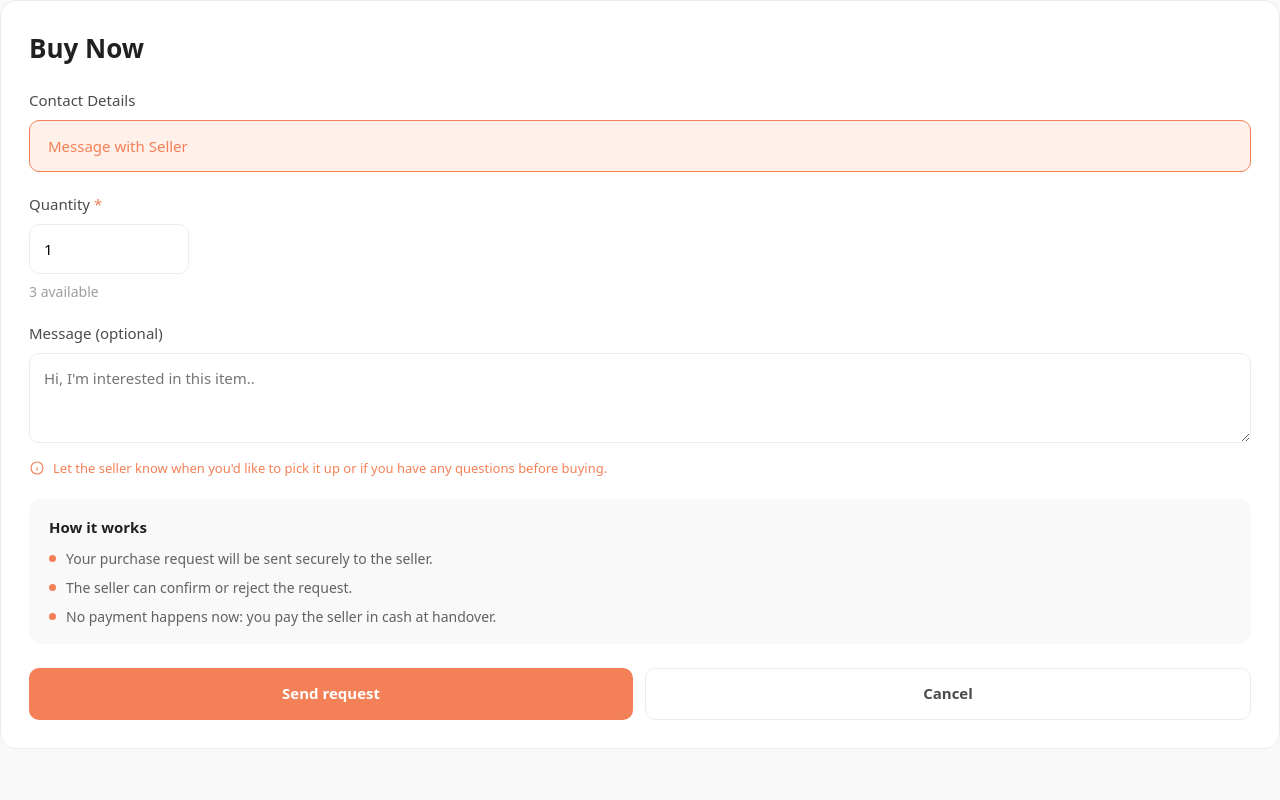
it: BuyNowForm › asks for a quantity within what the ad offers
The width and height of the screenshot is (1280, 800).
Step 1. Replace the text in the field labelled "Quantity *" with "4" → (109, 249), box top-left (29, 224), bottom-right (189, 274)
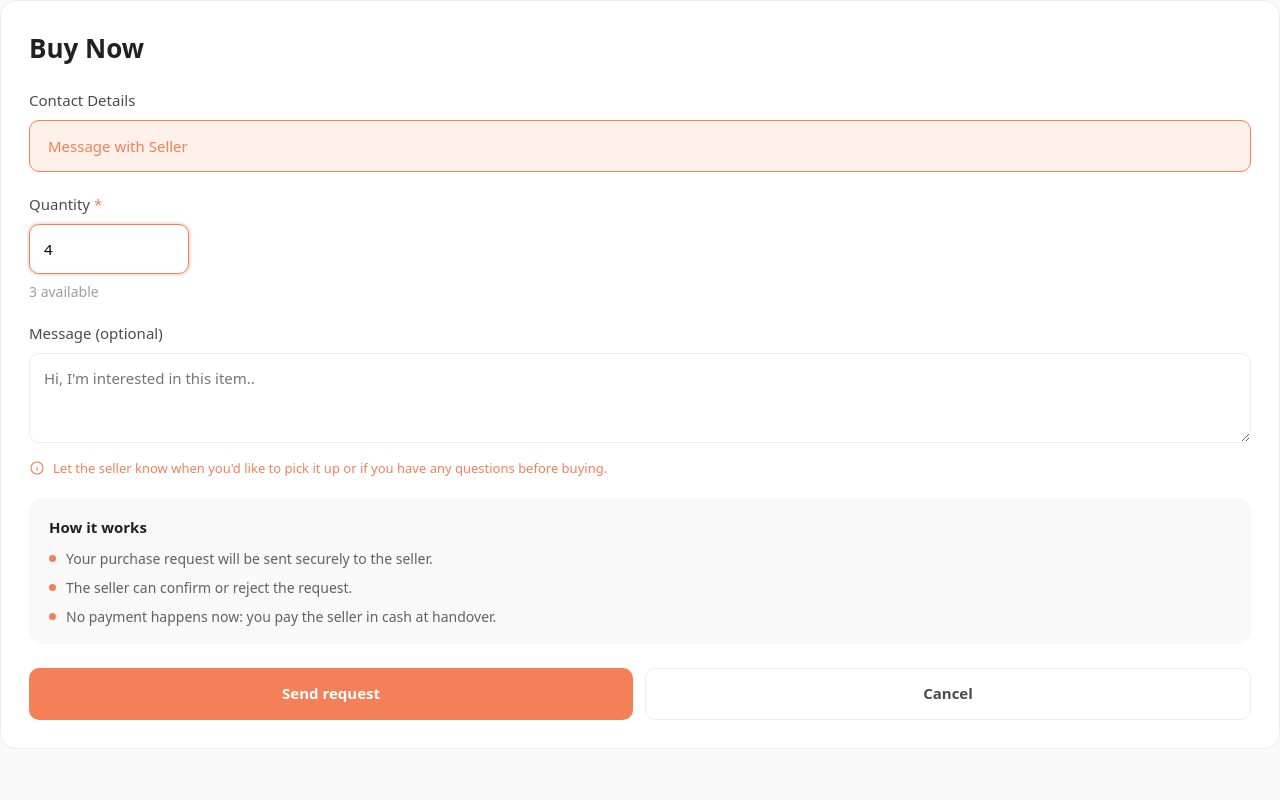
Step 2. Click the button "Send request" → (331, 694), box top-left (29, 668), bottom-right (633, 720)
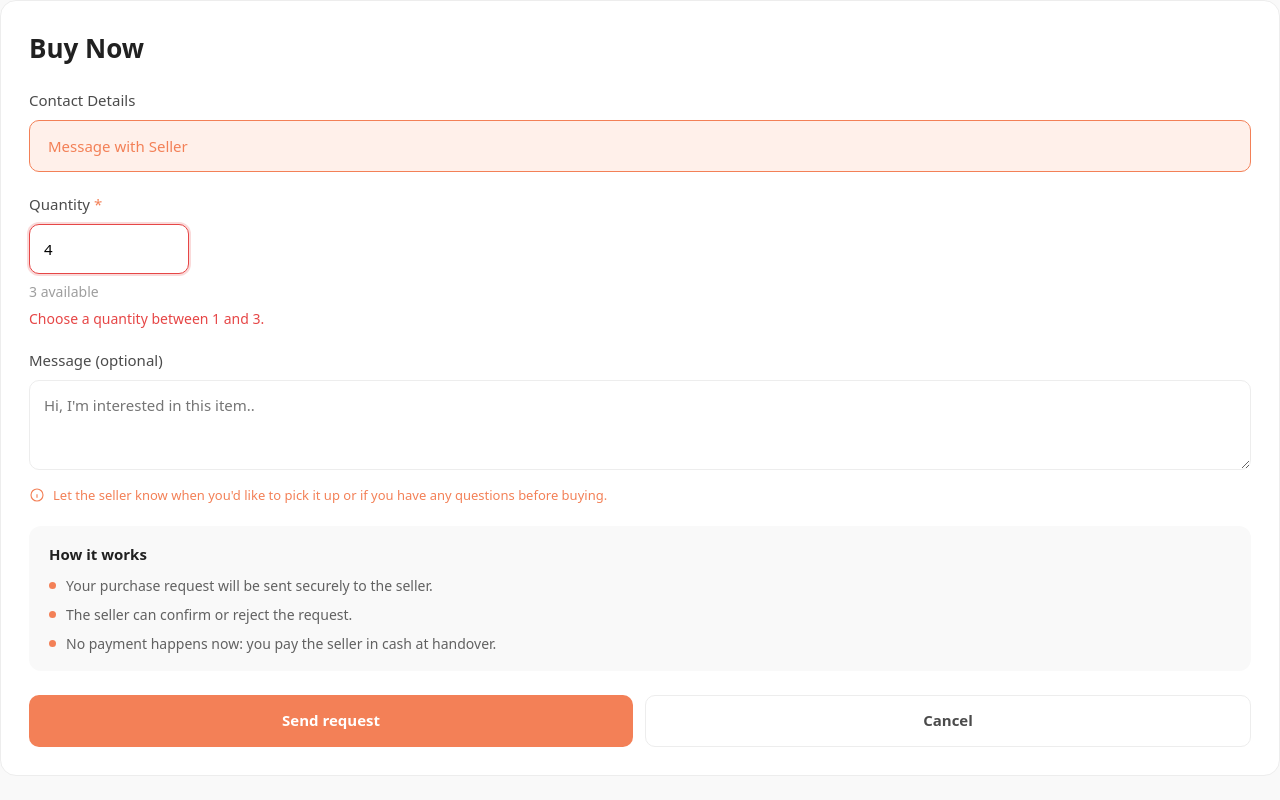
Expected: the text "Choose a quantity between 1 and 3." is shown, top-left (29, 309), bottom-right (264, 328)
